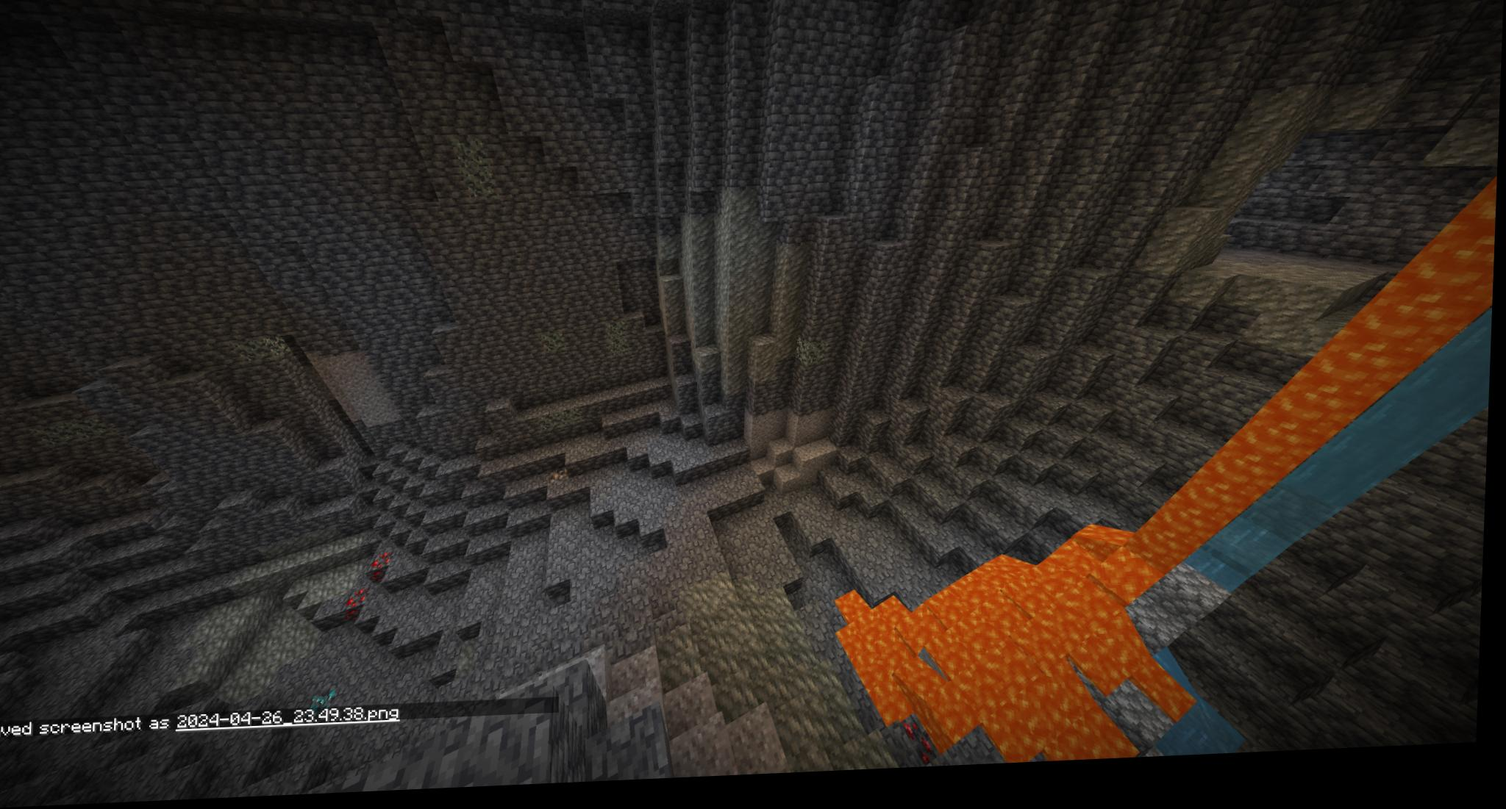diamond ore: (309, 688, 348, 715)
iron ore: (549, 468, 575, 494)
redstone ore: (349, 591, 377, 622), (371, 554, 394, 579)
